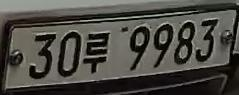0: (57, 29, 83, 78)
3: (27, 31, 57, 80), (196, 19, 219, 63)
8: (174, 20, 195, 66)
9: (128, 24, 151, 72), (152, 20, 174, 70)
루: (82, 29, 110, 75)
